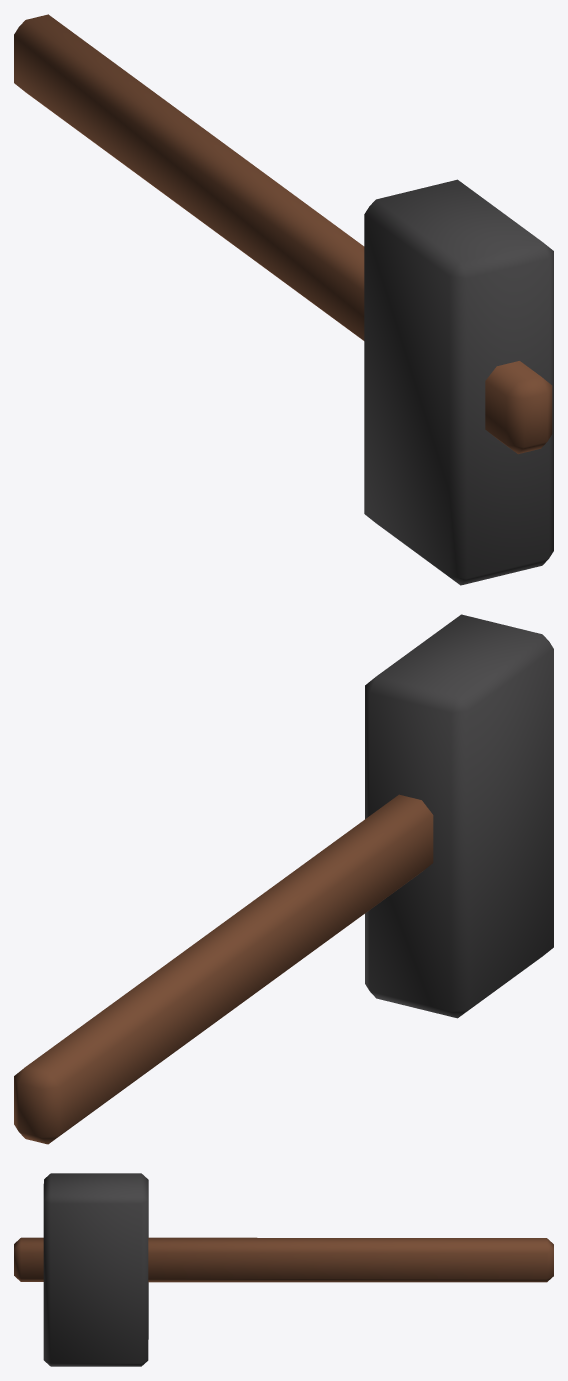
File: Hammer_1.fbx
3 renders of one model, top to bottom at view 1: azimuth 30°, elevation 25°; view 2: azimuth 150°, elevation 25°; view 3: azimuth 270°, elevation 25°, orthographic. The views are drawn at different scales.
Parts seen in each view (by area): view 1: Hammer_1; view 2: Hammer_1; view 3: Hammer_1.
Boxes of the visible parts, box(x1,y1,x2,y2) form: Hammer_1: box(14, 14, 553, 585); Hammer_1: box(14, 614, 553, 1144); Hammer_1: box(14, 1173, 553, 1366).
Bounding box in the file's own units: 7.96 × 23.47 × 66.66.
